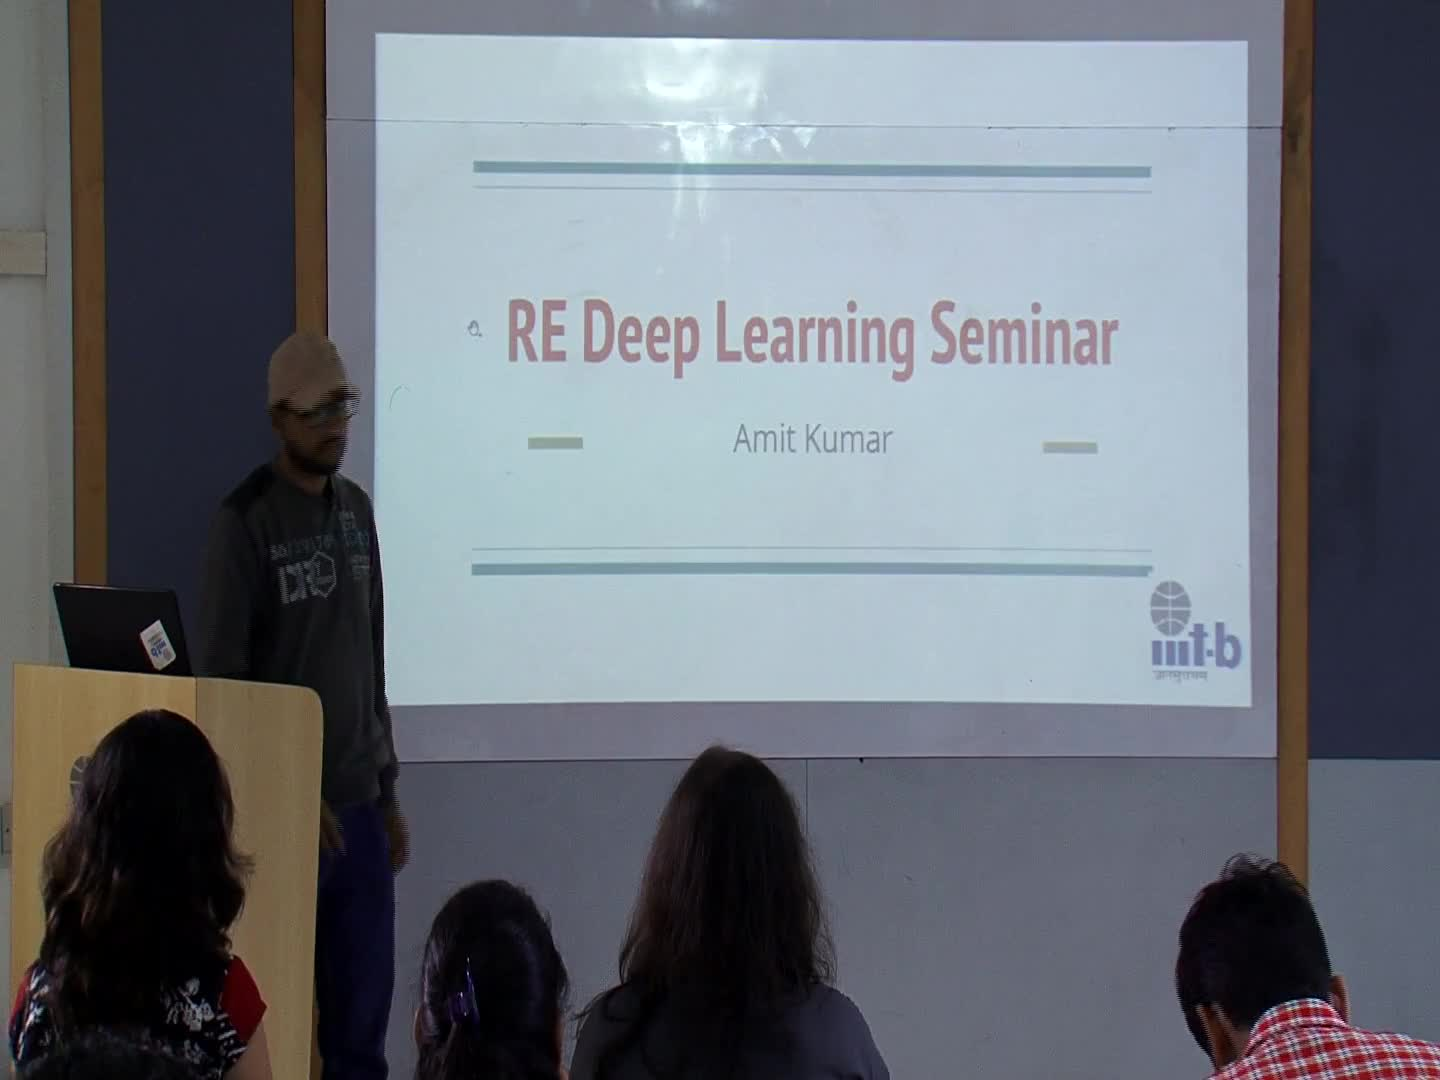slide: (374, 35, 1250, 709)
